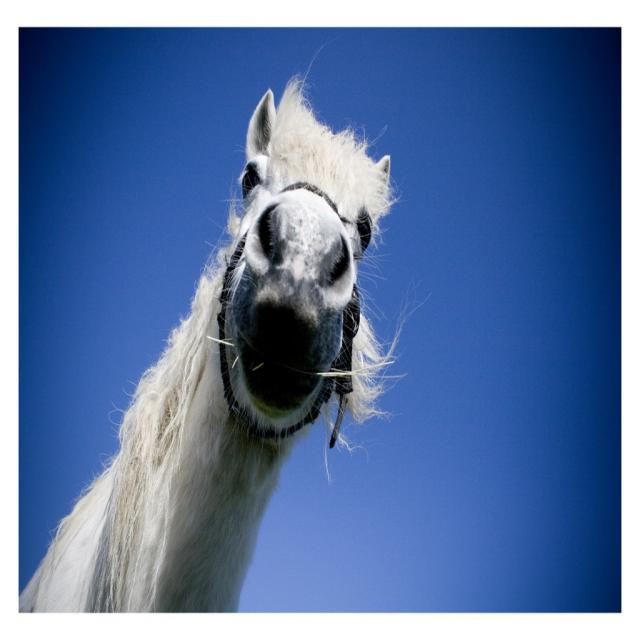Horse: (18, 35, 432, 613)
